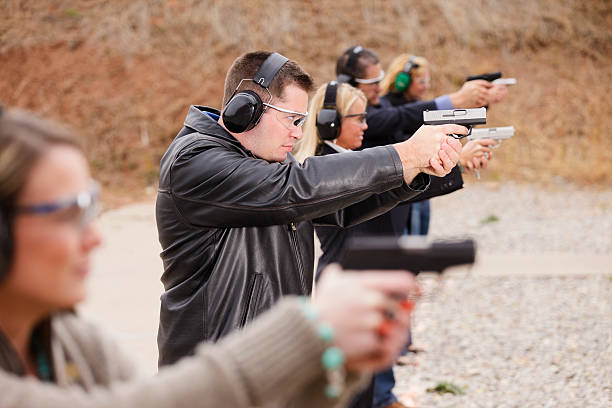gun: (341, 236, 477, 273), (424, 109, 488, 139), (471, 125, 516, 147), (467, 71, 502, 82), (493, 77, 517, 86)
